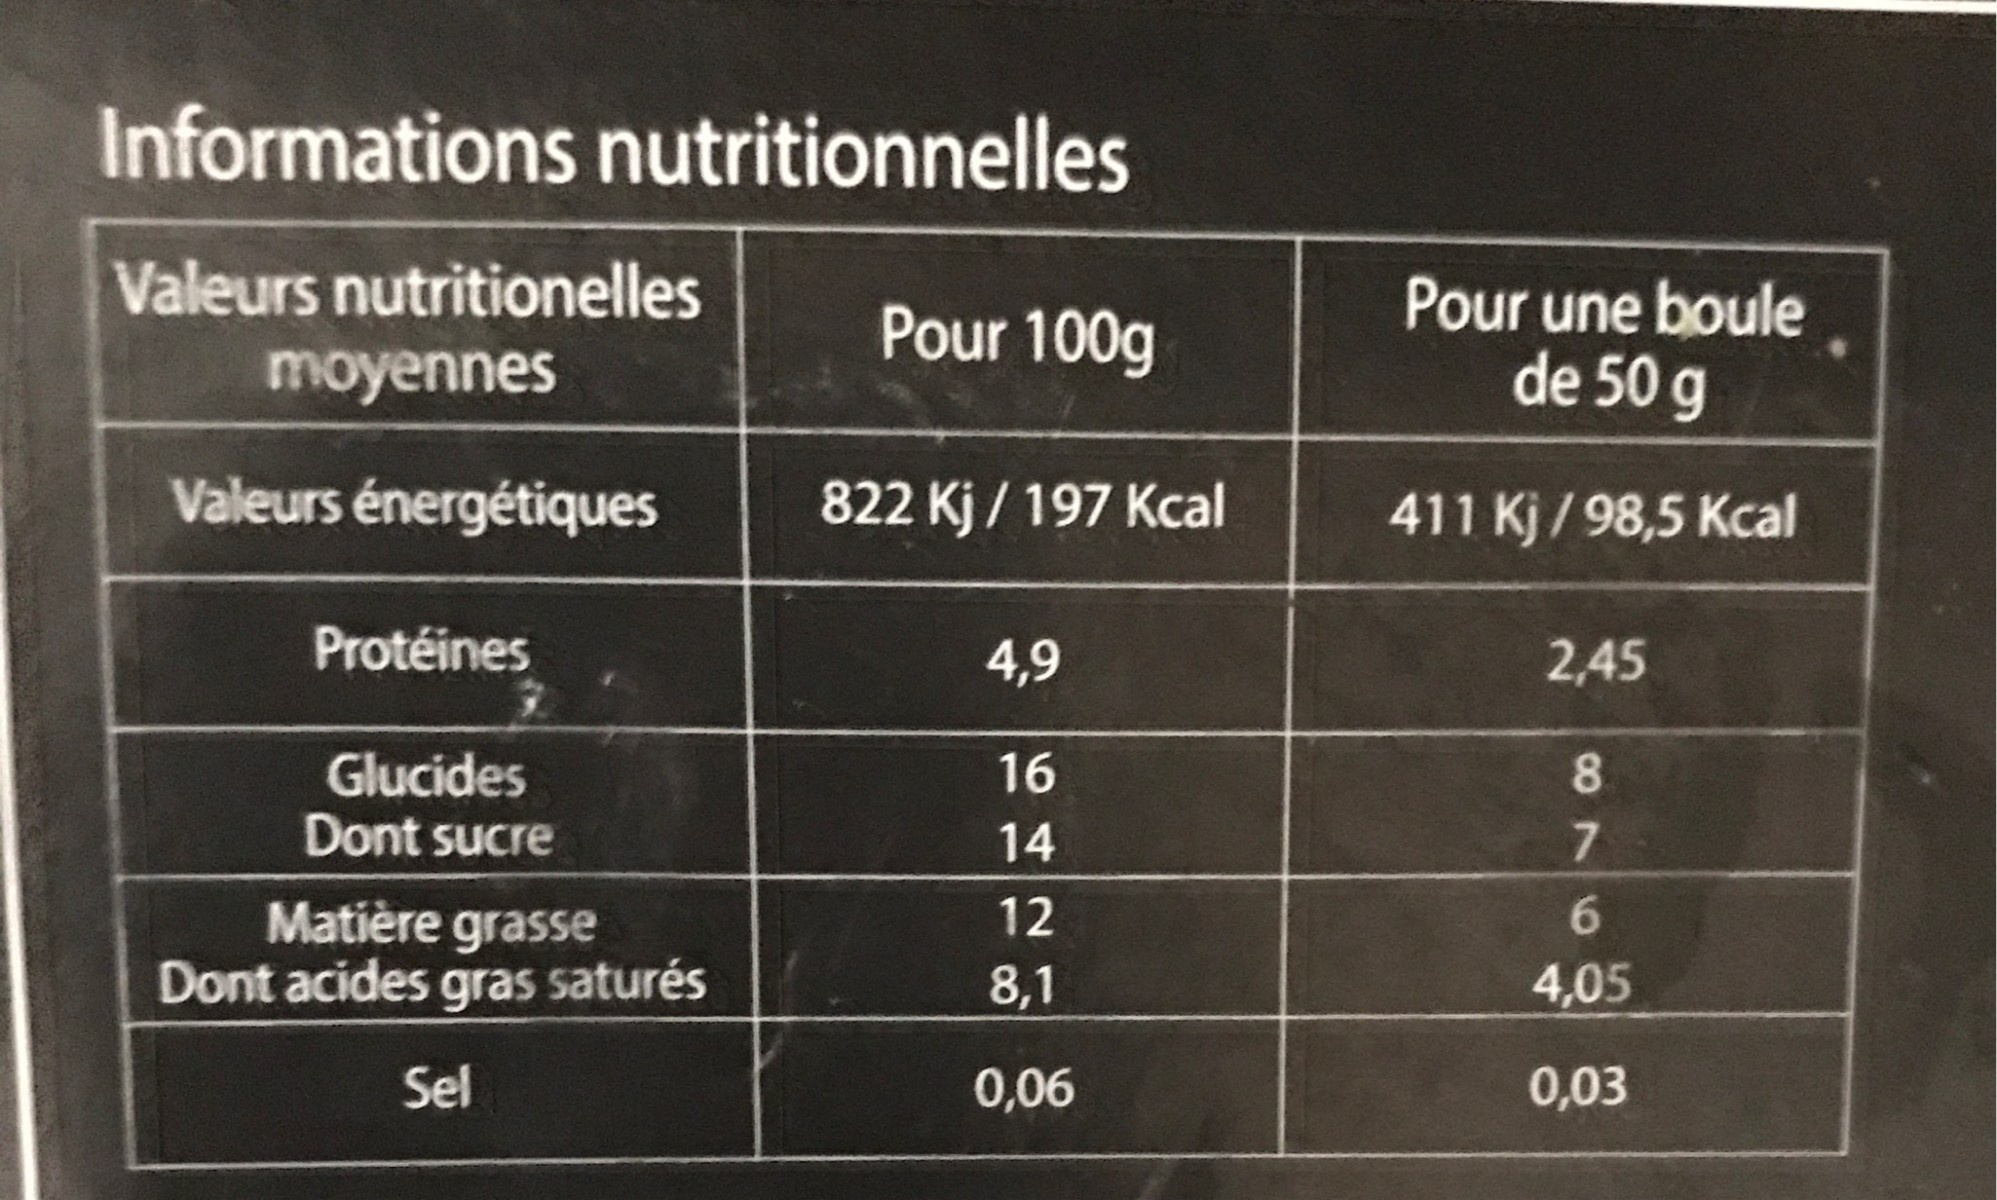column: (108, 255, 700, 1124), (1389, 270, 1812, 1112), (820, 300, 1222, 1109)
table: (77, 218, 1893, 1169)
